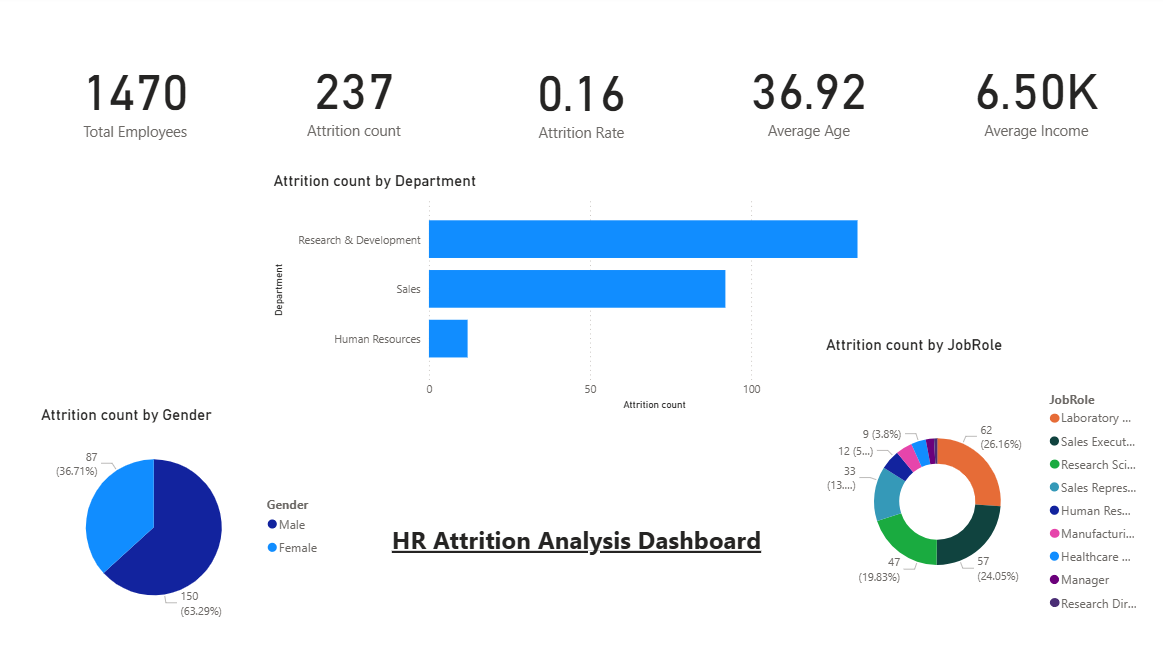

The page's visual inventory and layout, read from the dashboard file:
{"tool":"powerbi","page":{"name":"Page 1","canvas":[1280,720],"ordinal":0},"visuals":[{"type":"card","fields":{"Values":["HR Attrition Data.Total Employees"]},"box":[24.7,27.4,249.7,167.4],"z":0},{"type":"card","fields":{"Values":["HR Attrition Data.Attrition count"]},"box":[264.8,27.4,249.7,166],"z":1000},{"type":"card","fields":{"Values":["HR Attrition Data.Attrition Rate"]},"box":[514.6,28.8,249.7,167.4],"z":2000},{"type":"card","fields":{"Values":["HR Attrition Data.Average Age"]},"box":[764.3,26.1,249.7,167.4],"z":3000},{"type":"card","fields":{"Values":["HR Attrition Data.Average Income"]},"box":[1014.1,26.1,249.7,167.4],"z":4000},{"type":"clusteredBarChart","fields":{"Category":["HR Attrition Data.Department"],"Y":["HR Attrition Data.Attrition count"]},"box":[296.4,193.5,686.1,267.6],"z":5000},{"type":"pieChart","fields":{"Category":["HR Attrition Data.Gender"],"Y":["HR Attrition Data.Attrition count"]},"box":[41.2,450.1,323.8,249.7],"z":5001},{"type":"donutChart","fields":{"Category":["HR Attrition Data.JobRole"],"Y":["HR Attrition Data.Attrition count"]},"box":[902.9,373.2,360.9,347.2],"z":5002},{"type":"textbox","box":[365,575,537.9,68.6],"z":5003}]}

Visuals, with their boxes in screenshot pixels (x1, y1, x2, y2), scaled from the page's 1280x720 canvas onto the 1163x647 screenshot:
card - HR Attrition Data.Total Employees: left=22, top=25, right=249, bottom=175
card - HR Attrition Data.Attrition count: left=241, top=25, right=467, bottom=174
card - HR Attrition Data.Attrition Rate: left=468, top=26, right=694, bottom=176
card - HR Attrition Data.Average Age: left=694, top=23, right=921, bottom=174
card - HR Attrition Data.Average Income: left=921, top=23, right=1148, bottom=174
clusteredBarChart - HR Attrition Data.Department x HR Attrition Data.Attrition count: left=269, top=174, right=893, bottom=414
pieChart - HR Attrition Data.Gender x HR Attrition Data.Attrition count: left=37, top=404, right=332, bottom=629
donutChart - HR Attrition Data.JobRole x HR Attrition Data.Attrition count: left=820, top=335, right=1148, bottom=646
textbox: left=332, top=517, right=820, bottom=578
